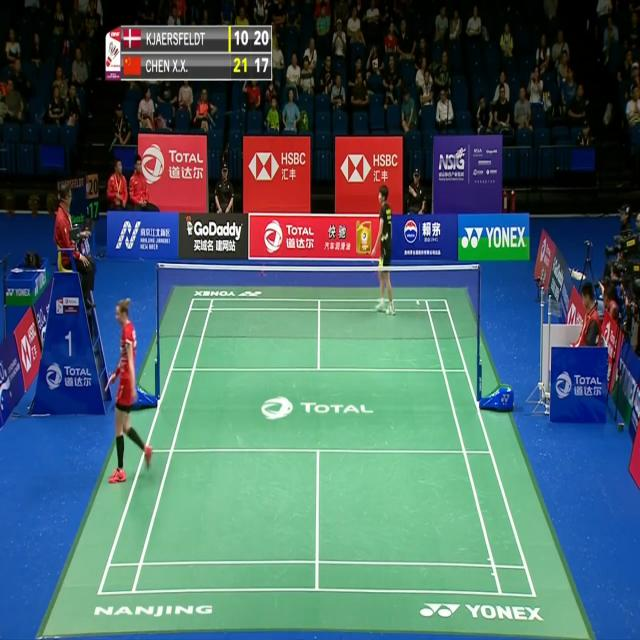Player1: (104, 296, 158, 486)
Player2: (372, 181, 398, 322)
